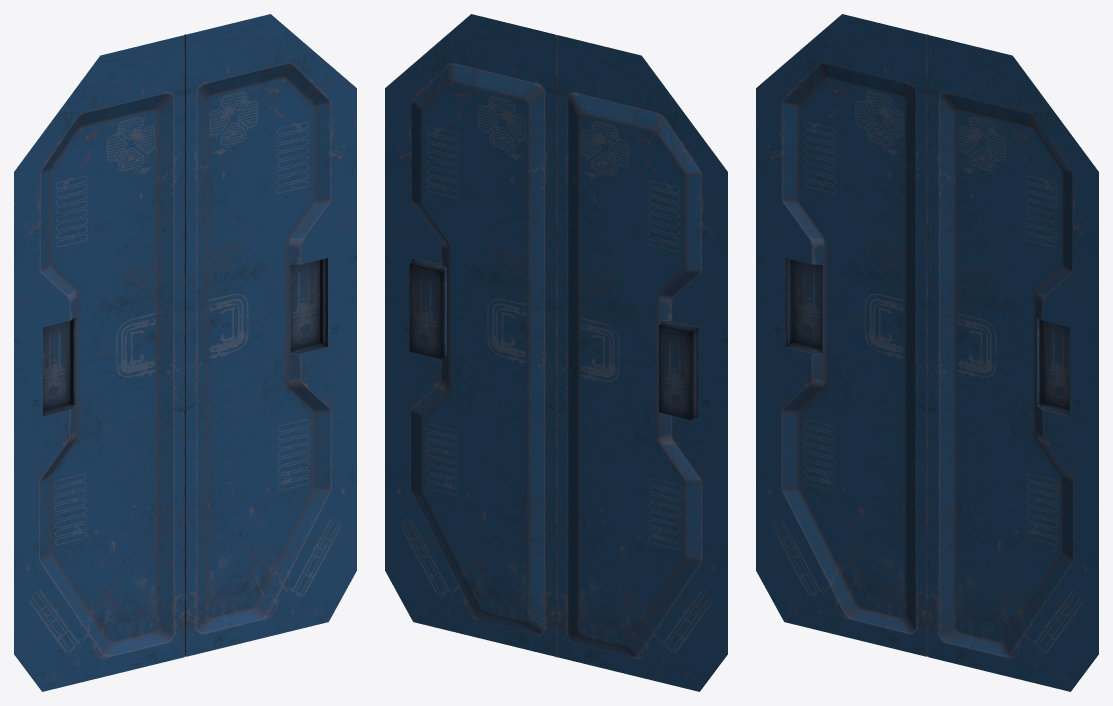
File: Fake Door.fbx
The picture shows the model from 3 angles, left to right: view 1: azimuth 30°, elevation 25°; view 2: azimuth 150°, elevation 25°; view 3: azimuth 330°, elevation 25°; orthographic projection.
Parts seen in each view (by area): view 1: Fake_Door; view 2: Fake_Door; view 3: Fake_Door.
Boxes of the visible parts, x1=… form: Fake_Door: x1=14, y1=14, x2=356, y2=691; Fake_Door: x1=385, y1=14, x2=727, y2=691; Fake_Door: x1=756, y1=14, x2=1098, y2=691.
Bounding box in the file's own units: 102 × 177 × 3.2.
